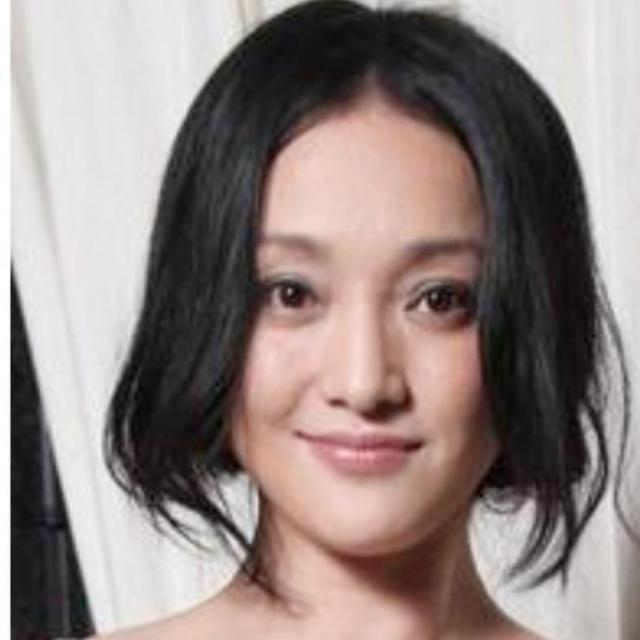live: (212, 87, 528, 573)
